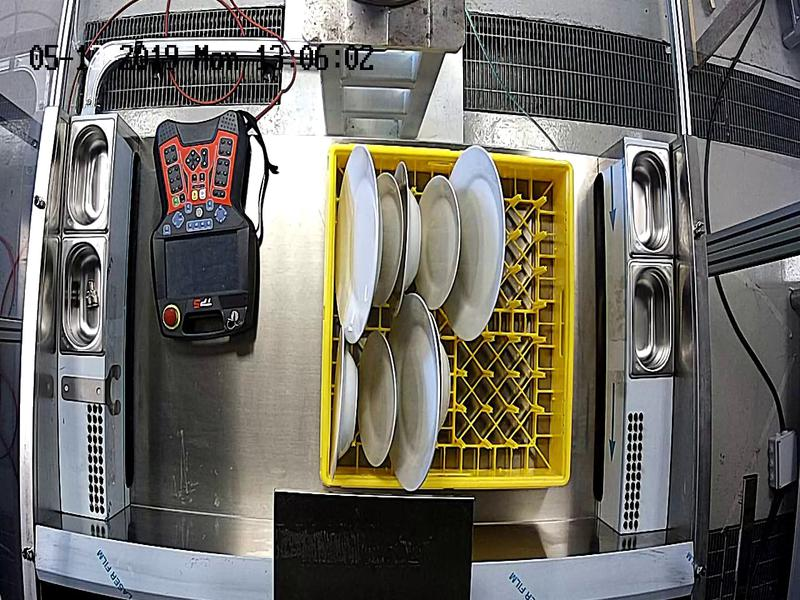Dish: (334, 148, 382, 343), (463, 143, 505, 343), (401, 295, 436, 496), (423, 171, 459, 311), (329, 330, 361, 476), (363, 328, 394, 470), (378, 173, 404, 311), (403, 163, 423, 311), (436, 323, 455, 435)
